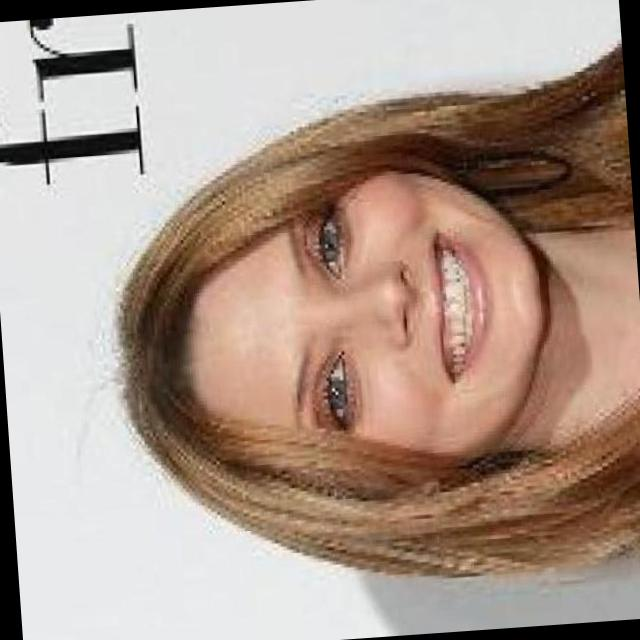bareface: (152, 150, 574, 535)
